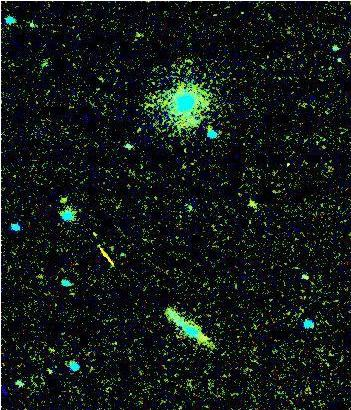star: (47, 182, 77, 212)
